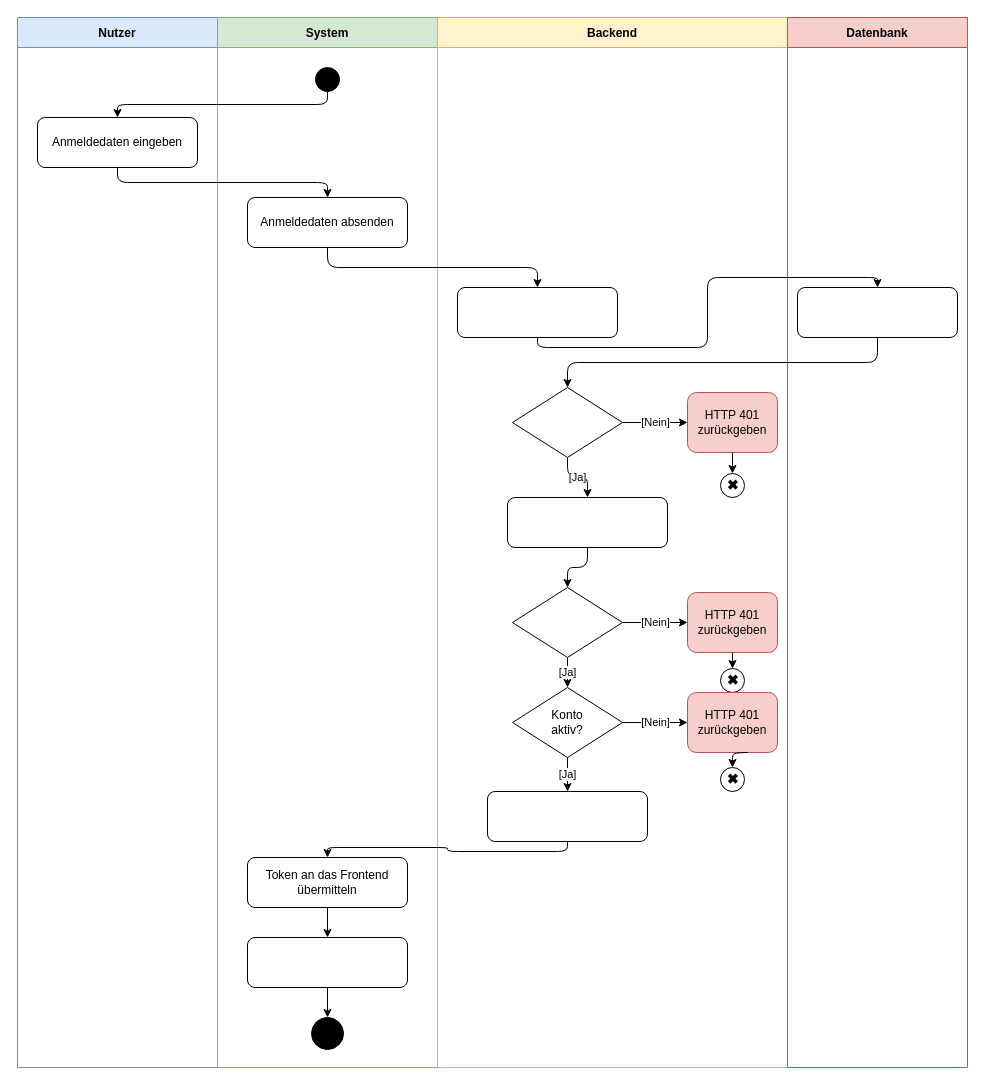
Some shapes in this 985 by 1085 pixel diagram are drawn without their labels. Here are the shapes that lost their labels. From the top down, the centre of each, then its label:
At [537,312]: "Benutzer anhand der E-Mail-Adresse suchen".
At [877,312]: "Benutzerdaten aus der Datenbank laden".
At [567,422]: "Benutzer vorhanden?".
At [587,522]: "Passwort überprüfen".
At [567,622]: "Passwort korrekt?".
At [567,816]: "Zugriffstoken erstellen".
At [327,962]: "Benutzer anmelden und zur Startseite weiterleiten".
